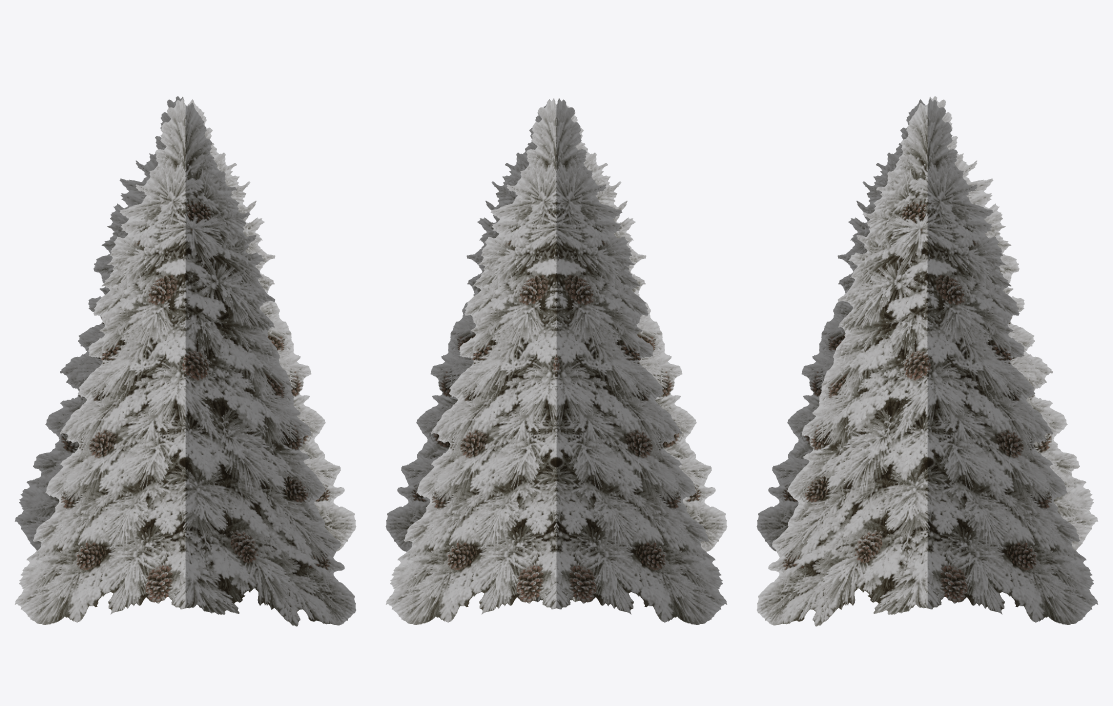
File: 03-nevada-pinhas-2-10m.glb
The picture shows the model from 3 angles, left to right: view 1: azimuth 30°, elevation 25°; view 2: azimuth 150°, elevation 25°; view 3: azimuth 270°, elevation 25°; orthographic projection.
Visible parts, largest first — view 1: 03-nevada-pinhas-2,1m; view 2: 03-nevada-pinhas-2,1m; view 3: 03-nevada-pinhas-2,1m.
Part boxes in pixels (x1=…): 03-nevada-pinhas-2,1m: x1=15, y1=96, x2=356, y2=626; 03-nevada-pinhas-2,1m: x1=385, y1=98, x2=727, y2=624; 03-nevada-pinhas-2,1m: x1=756, y1=96, x2=1097, y2=626.
Bounding box in the file's own units: 1.47 × 2.1 × 1.28.
1 material, 1 textured.
